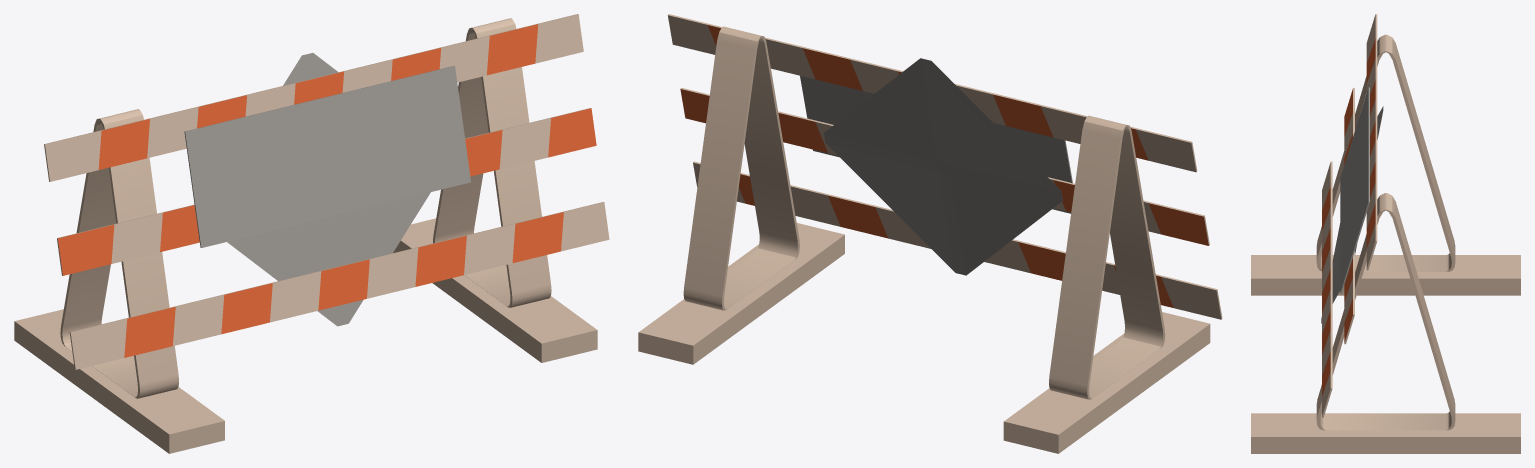
Rendered from obstacle2.fbx.
3 renders of one model, left to right at view 1: azimuth 30°, elevation 25°; view 2: azimuth 150°, elevation 25°; view 3: azimuth 270°, elevation 25°, orthographic. The views are drawn at different scales.
Visible parts, largest first — view 1: obstacle2; view 2: obstacle2; view 3: obstacle2.
Boxes of the visible parts, bbox=[...] form: obstacle2: bbox=[14, 14, 609, 453]; obstacle2: bbox=[638, 14, 1222, 453]; obstacle2: bbox=[1251, 14, 1520, 453].
Size of the model in its own units: 212 by 111 by 106.
